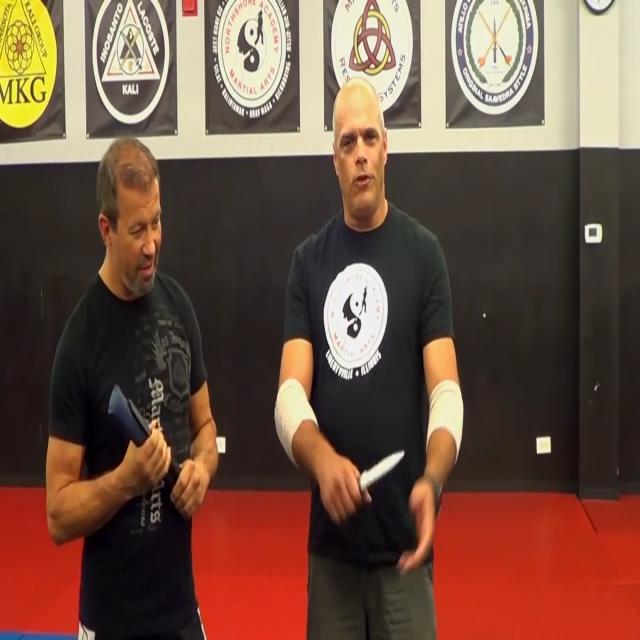knife: (355, 446, 407, 487)
